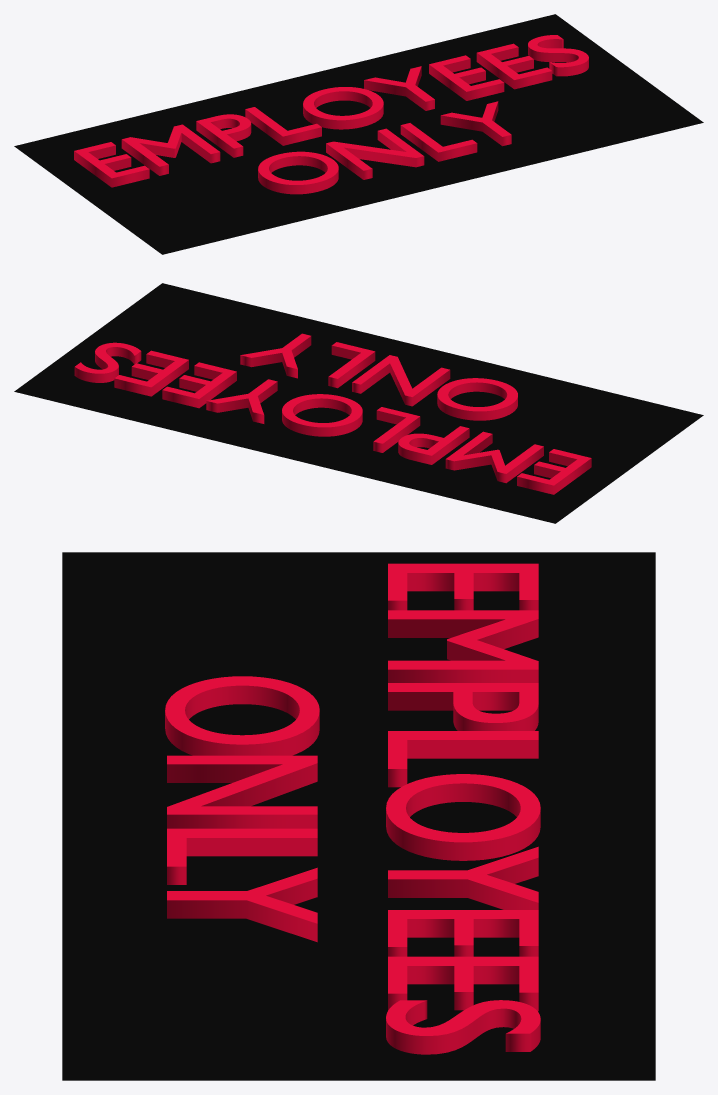
The model's file is employeesign.fbx.
3 renders of one model, top to bottom at view 1: azimuth 30°, elevation 25°; view 2: azimuth 150°, elevation 25°; view 3: azimuth 270°, elevation 25°, orthographic. The views are drawn at different scales.
Parts seen in each view (by area): view 1: Plane, Text; view 2: Plane, Text; view 3: Plane, Text.
Boxes of the visible parts, x1,y1,x2,y2 form: Plane: (14, 14, 703, 254); Text: (74, 35, 588, 194); Plane: (14, 283, 703, 523); Text: (74, 333, 591, 494); Plane: (62, 552, 655, 1080); Text: (165, 563, 540, 1054).
Size of the model in its own units: 421 by 16.33 by 200.
